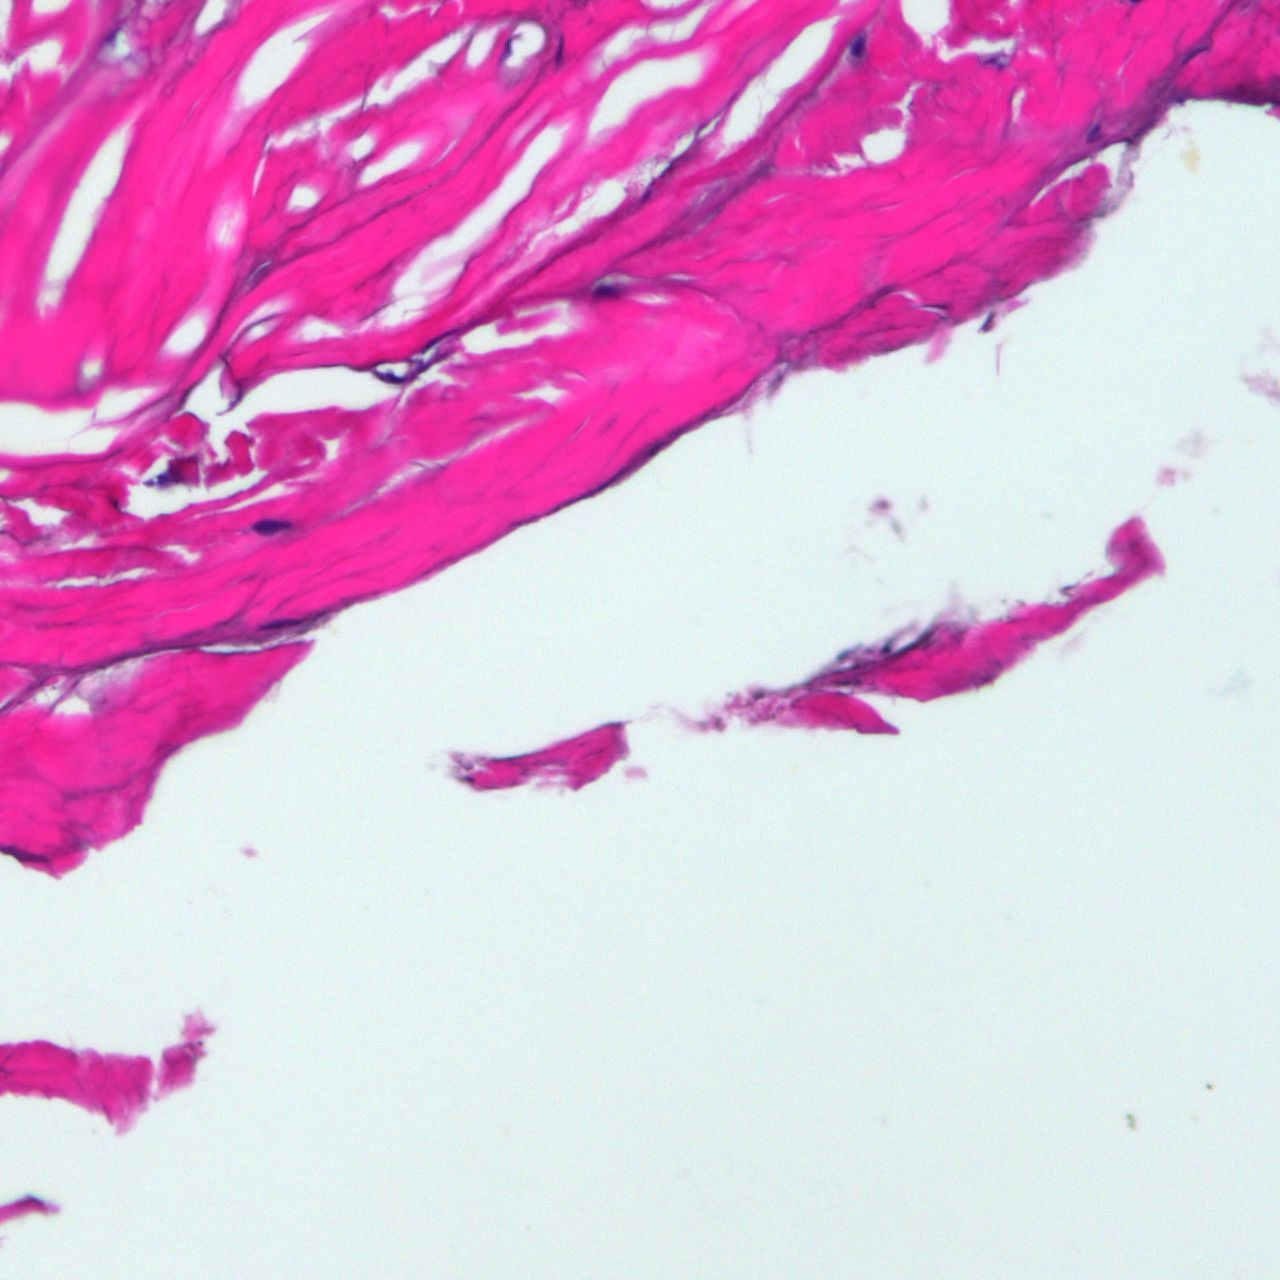nucleus-HE: (370, 362, 407, 387), (252, 515, 291, 536), (847, 30, 869, 61), (590, 280, 620, 301), (644, 435, 668, 461), (552, 33, 566, 72), (978, 309, 998, 333), (498, 38, 516, 63), (1085, 121, 1104, 143), (836, 678, 850, 686), (881, 644, 890, 653)
